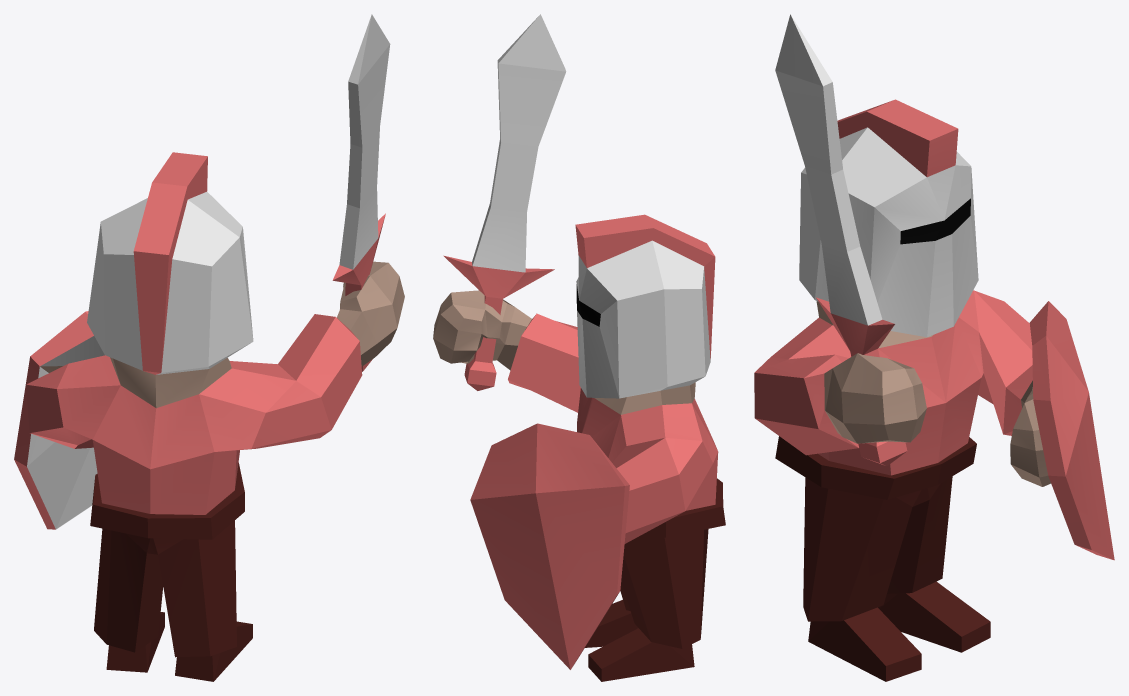
The model's file is Knight-Red.gltf.
The picture shows the model from 3 angles, left to right: view 1: azimuth 30°, elevation 25°; view 2: azimuth 150°, elevation 25°; view 3: azimuth 270°, elevation 25°; orthographic projection. The views are drawn at different scales.
Visible parts, largest first — view 1: Knight.001; view 2: Knight.001; view 3: Knight.001.
Part boxes in pixels (box(x1,y1,x2,y2)): Knight.001: box(14, 14, 404, 681); Knight.001: box(433, 14, 725, 681); Knight.001: box(754, 14, 1114, 681).
Size of the model in its own units: 1.38 by 2.57 by 1.18.
